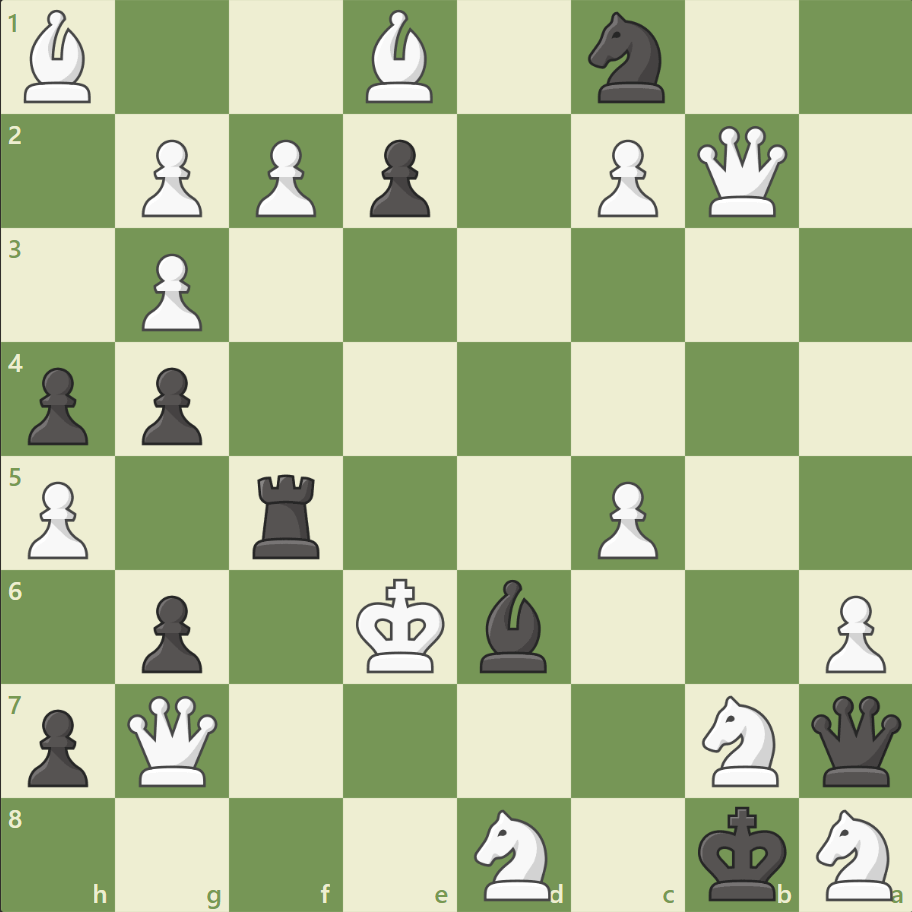B: (358, 6, 442, 109), (17, 6, 101, 109)
K: (351, 571, 451, 679)
N: (692, 688, 789, 791), (806, 802, 903, 904), (465, 802, 562, 904)
P: (20, 473, 95, 564), (133, 246, 208, 337), (247, 132, 322, 223), (133, 132, 208, 223), (815, 586, 889, 677), (588, 473, 662, 564), (588, 132, 662, 223)
Q: (691, 122, 790, 222), (124, 690, 223, 789)
b: (471, 574, 555, 676)
k: (692, 798, 792, 906)
n: (579, 7, 676, 110)
p: (20, 700, 95, 791), (133, 586, 208, 677), (133, 359, 208, 450), (20, 359, 95, 450), (361, 132, 435, 223)
q: (805, 690, 904, 789)
r: (246, 466, 329, 563)
